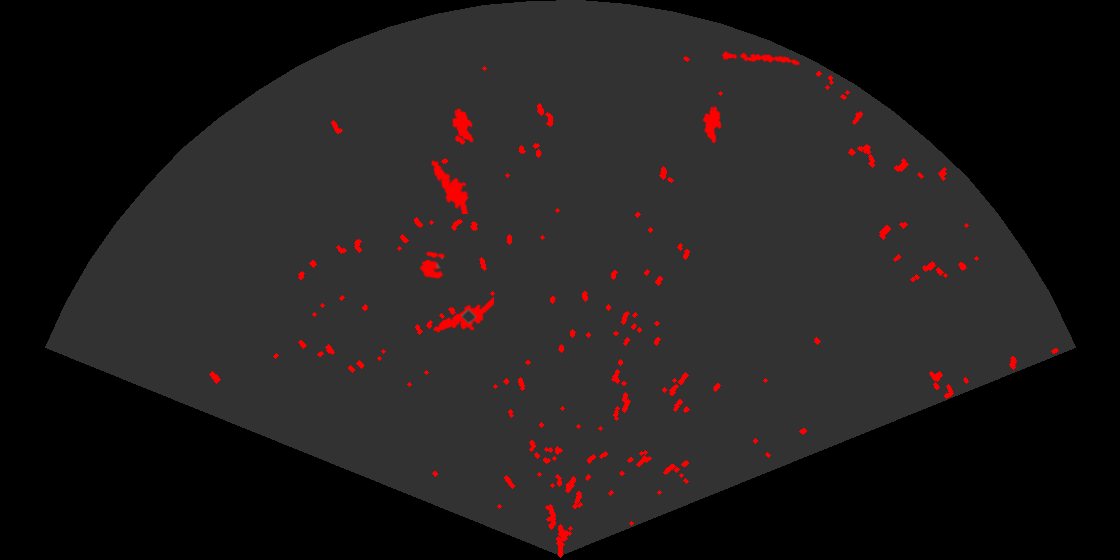AUV: (451, 106, 475, 144), (701, 104, 723, 145)
ball: (418, 250, 447, 280)
chain: (720, 49, 801, 67)
frogman: (432, 295, 494, 334), (430, 158, 471, 214)
